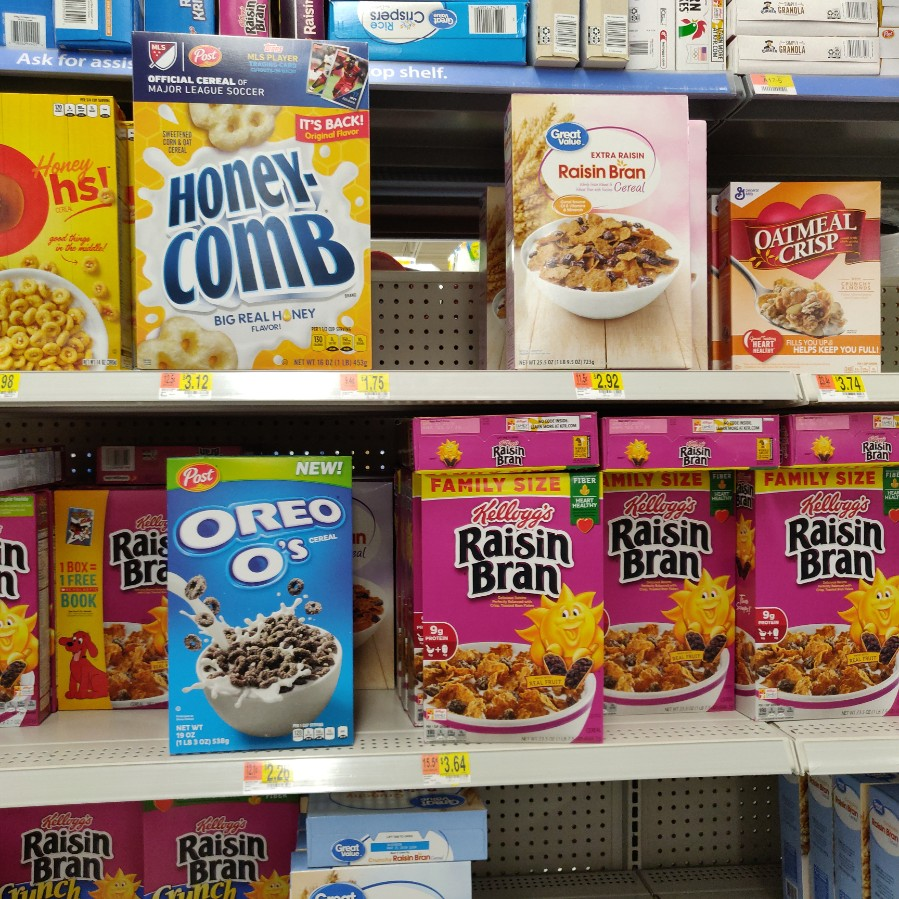Honey Comb- 009288857: (127, 31, 372, 374)
Oreo-563424384: (167, 460, 363, 750)
